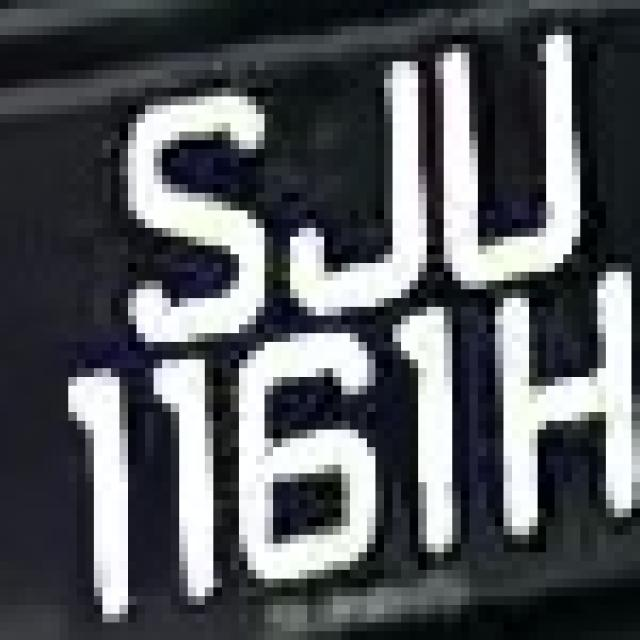1: (111, 324, 239, 622), (367, 272, 478, 578), (51, 333, 145, 623)
6: (230, 324, 401, 578)
H: (486, 272, 632, 535)
J: (273, 17, 435, 316)
S: (94, 70, 290, 351)
U: (418, 8, 589, 280)
